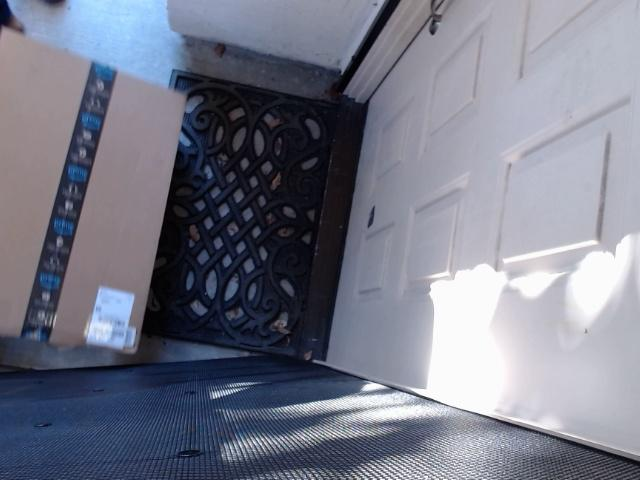box: (0, 0, 173, 381)
